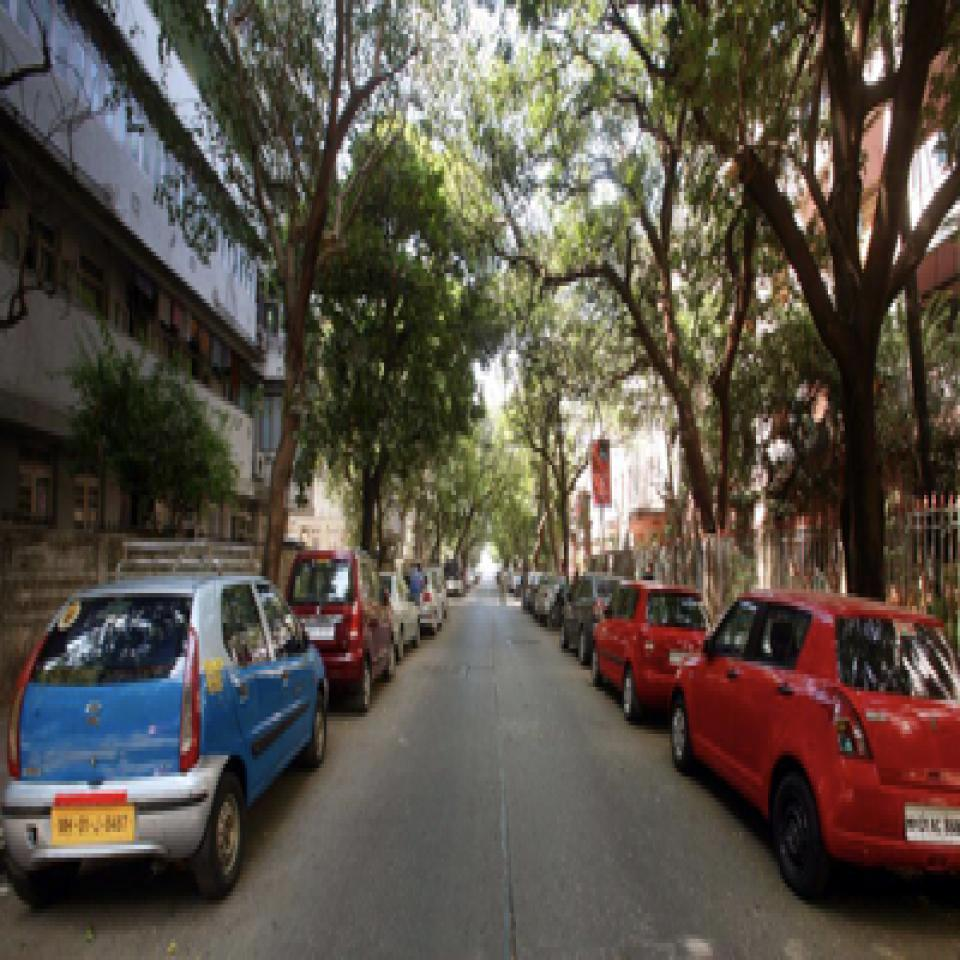licence: (905, 798, 958, 849), (53, 806, 132, 840)
